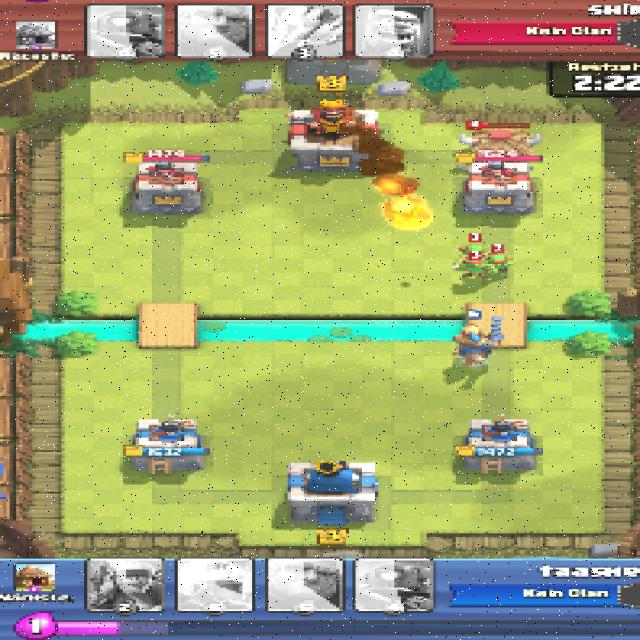Enemy-Fireball: (380, 192, 434, 233)
Enemy-GoblinHut: (458, 129, 542, 161)
Enemy-SpearGoblin: (458, 258, 496, 279), (485, 253, 518, 277), (458, 241, 489, 262)
Player-Prince: (450, 312, 504, 366)
